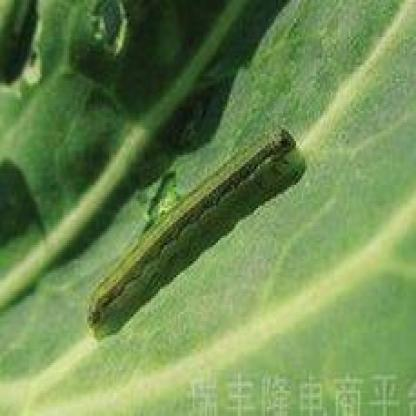armyworm: (67, 99, 328, 355)
